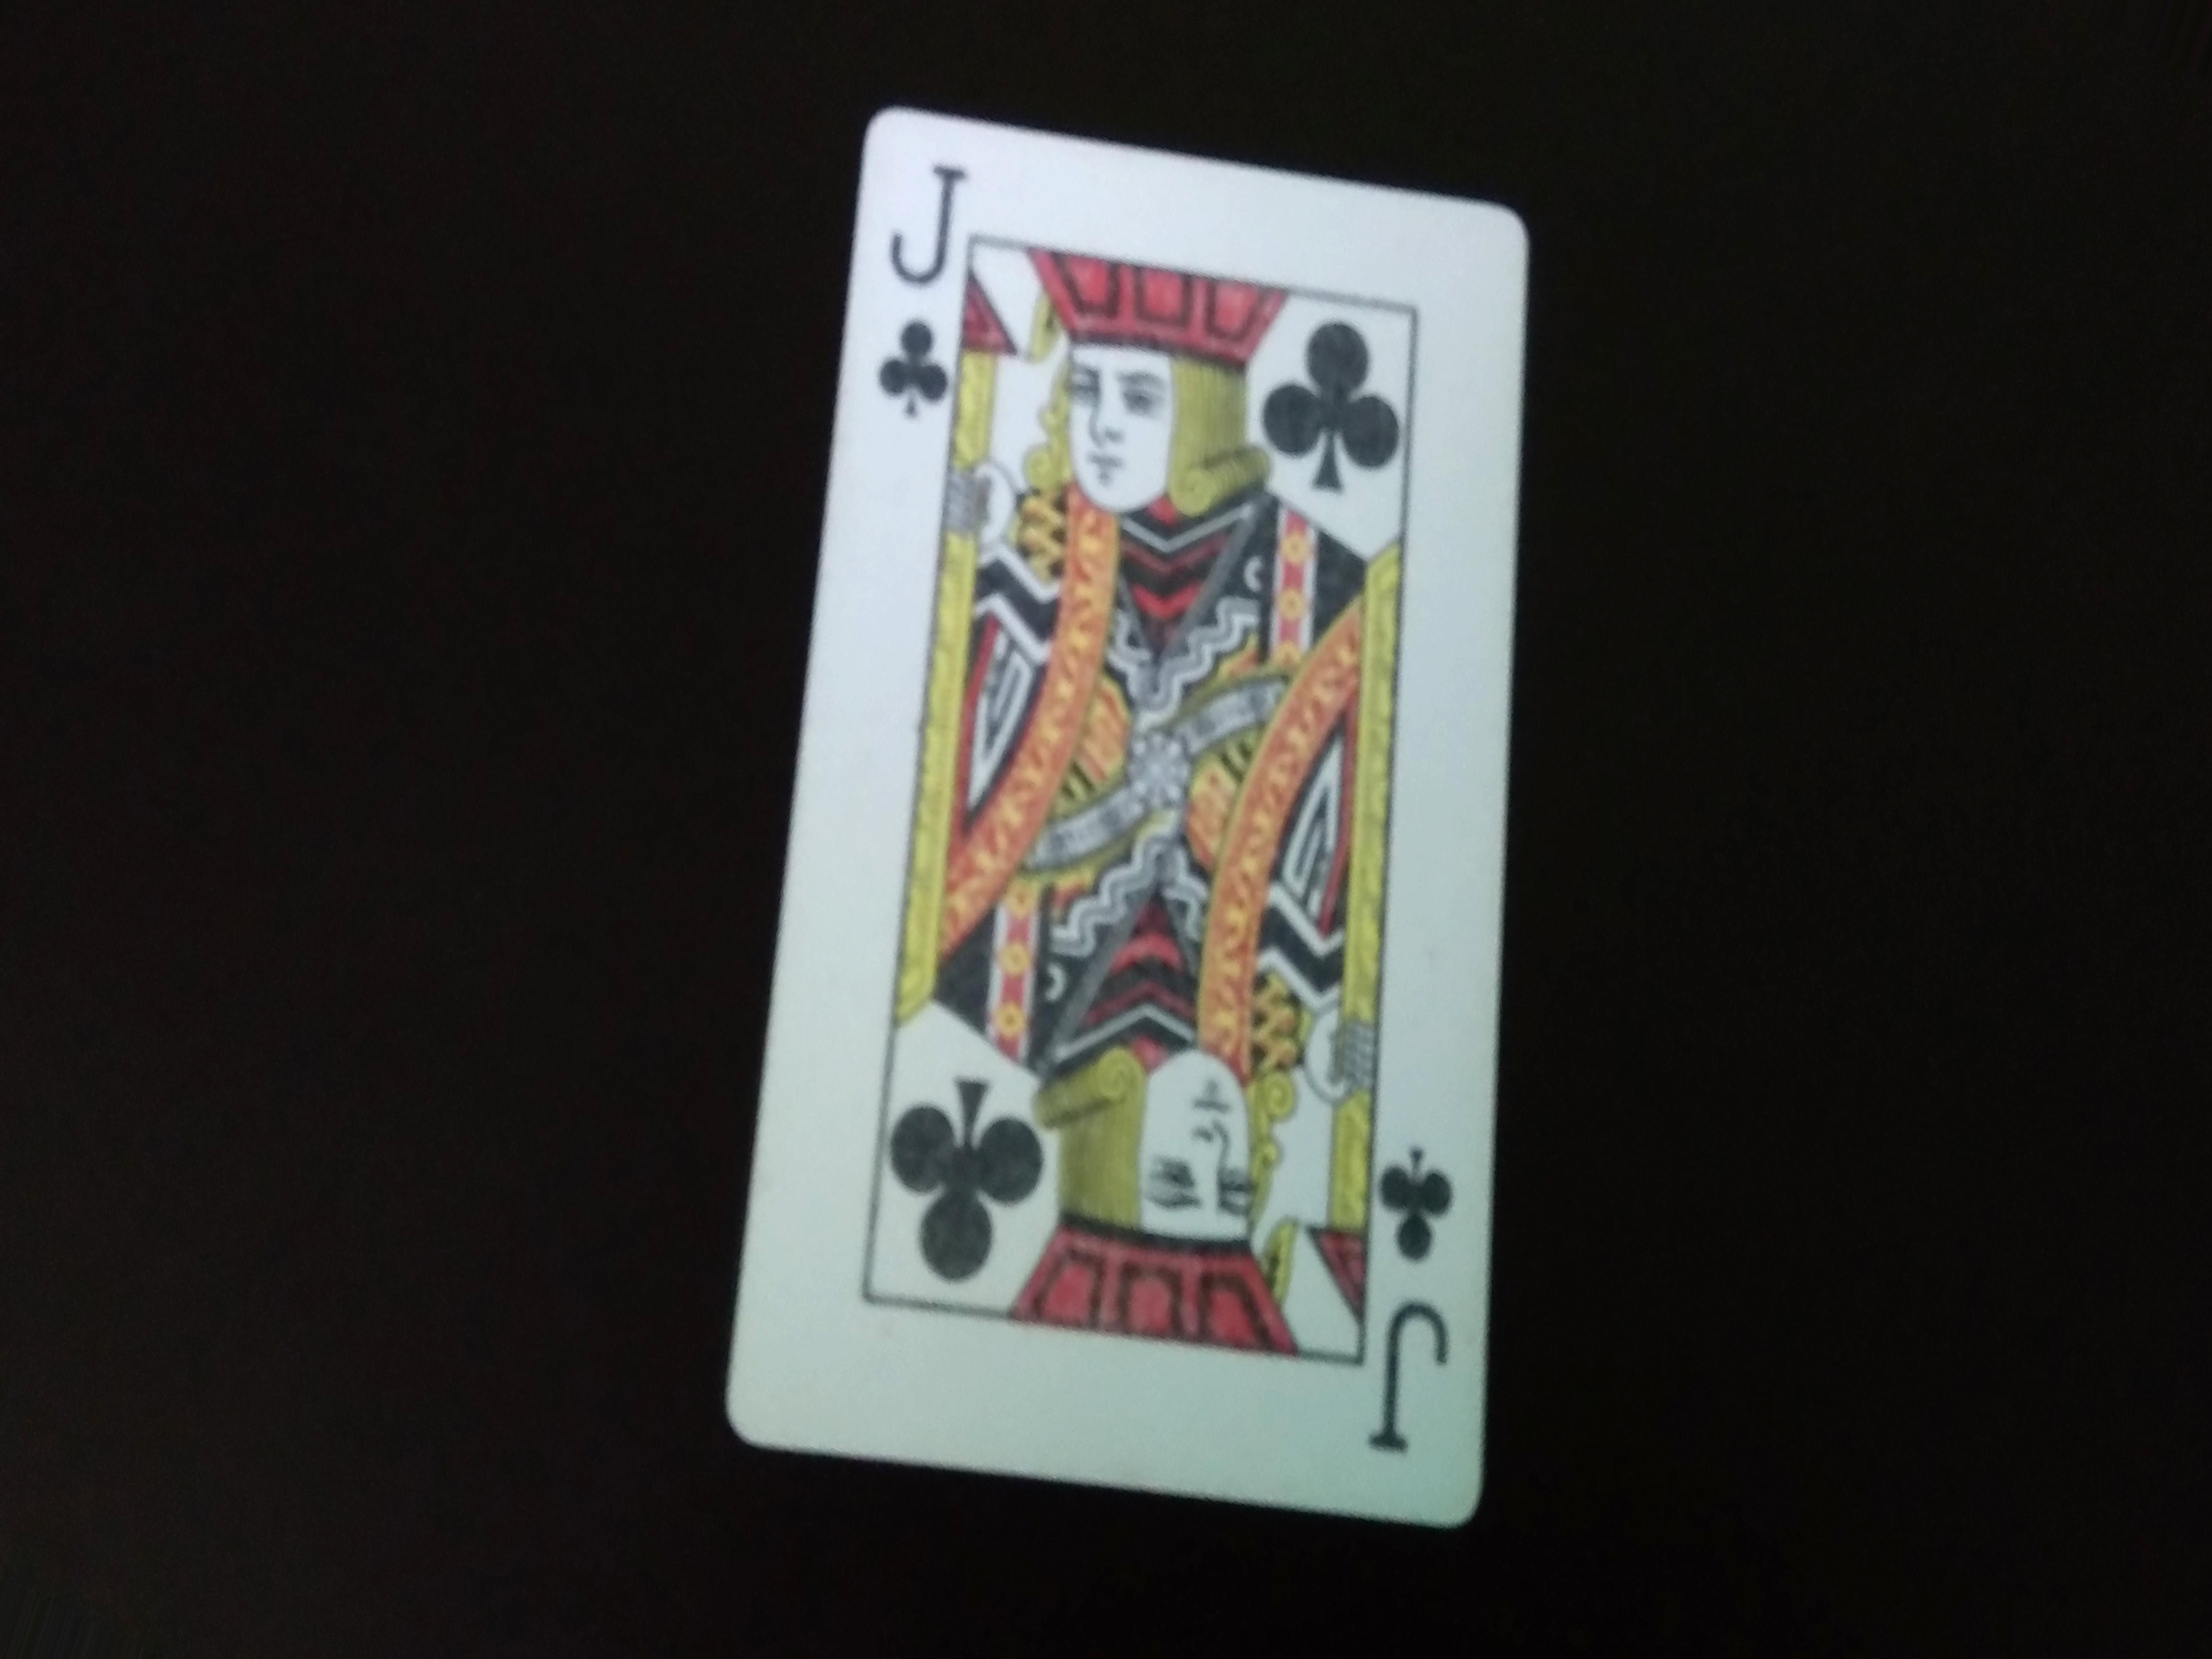JC: (1360, 1119, 1484, 1476)
